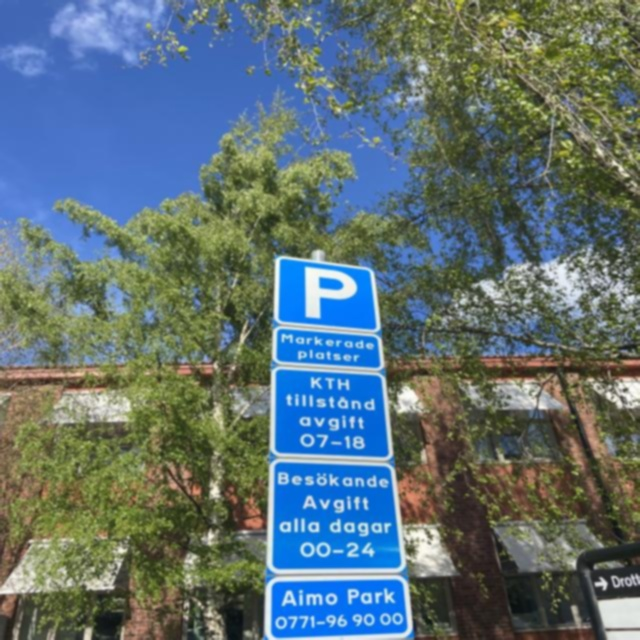P-skylt: (274, 257, 378, 333)
